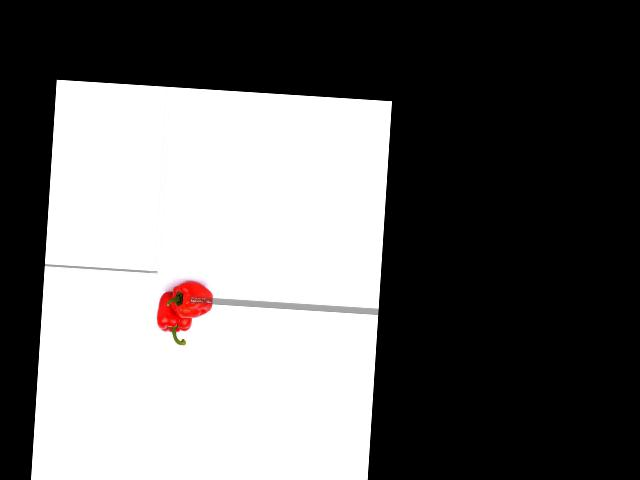bell_pepper: (167, 280, 219, 323)
